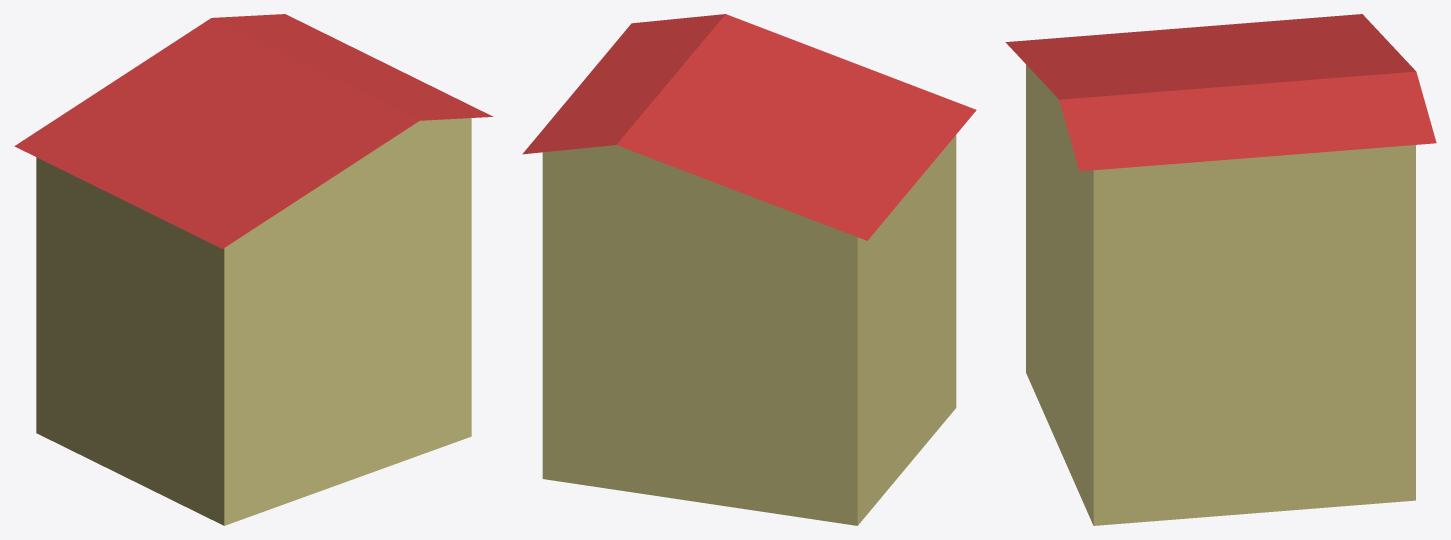
3 renders of one model, left to right at view 1: azimuth 30°, elevation 25°; view 2: azimuth 150°, elevation 25°; view 3: azimuth 270°, elevation 25°, orthographic. The views are drawn at different scales.
Bounding box in the file's own units: 6.57 × 6.11 × 6.08.
